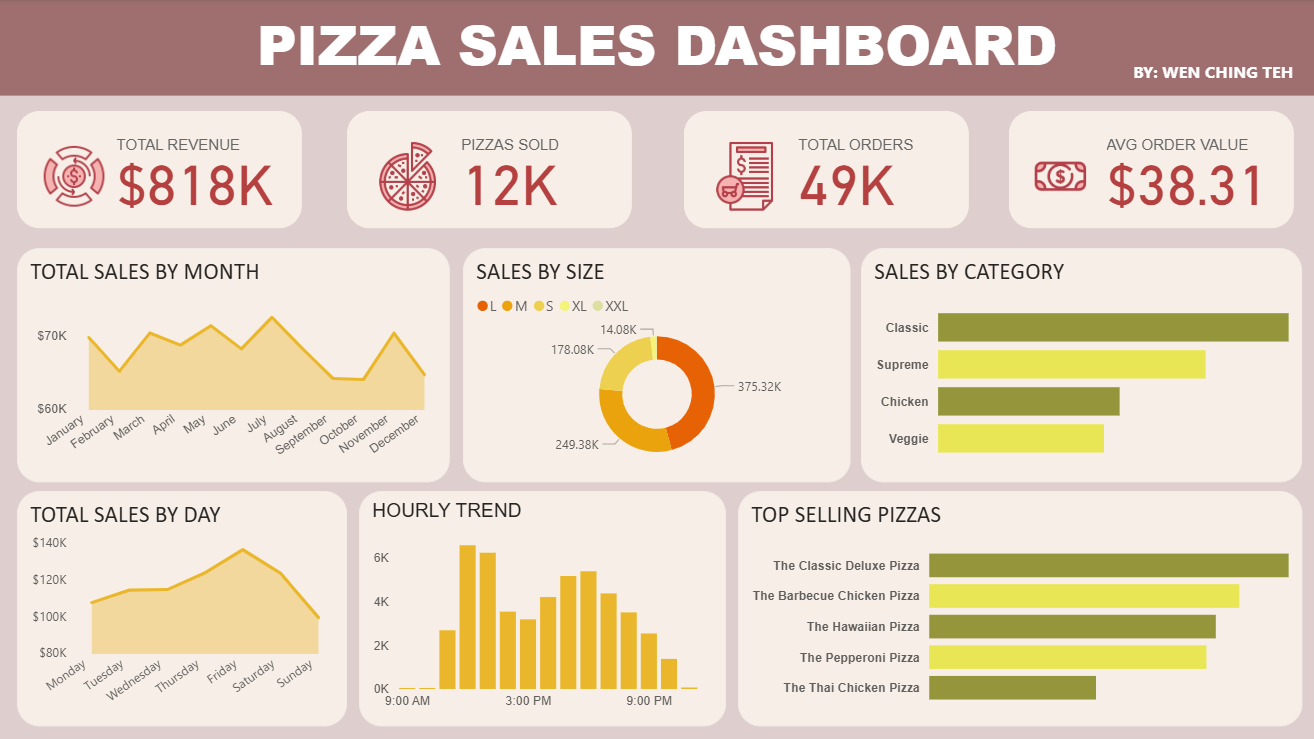

The page's visual inventory and layout, read from the dashboard file:
{"tool":"powerbi","page":{"name":"Page 1","canvas":[1280,720],"ordinal":0},"visuals":[{"type":"clusteredBarChart","title":"SALES BY CATEGORY","fields":{"Category":["Revenue_PizzaCategory.pizza_category"],"Y":["Sum(Revenue_PizzaCategory.total_revenue)"]},"box":[838.4,242.2,428.9,227.6],"z":0},{"type":"areaChart","title":"TOTAL SALES BY MONTH","fields":{"Category":["Month_TotalRevenue.month_name"],"Y":["Sum(Month_TotalRevenue.monthly_revenue)"]},"box":[17.5,242.2,421.2,227.6],"z":1000},{"type":"clusteredColumnChart","title":"HOURLY TREND","fields":{"Category":["Hour_TotalOrder.time_hour"],"Y":["Sum(Hour_TotalOrder.total_order)"]},"box":[350.2,478.5,357,228.6],"z":2000},{"type":"areaChart","title":"TOTAL SALES BY DAY","fields":{"Category":["Day_TotalRevenue.day_of_week"],"Y":["Sum(Day_TotalRevenue.total_revenue)"]},"box":[17.5,478.5,321,228.6],"z":4000},{"type":"donutChart","title":"SALES BY SIZE","fields":{"Category":["PizzaSize_TotalRevenue.pizza_size"],"Y":["Sum(PizzaSize_TotalRevenue.total_revenue)"]},"box":[451.3,242.2,377.4,227.6],"z":5000},{"type":"clusteredBarChart","title":"TOP SELLING PIZZAS","fields":{"Category":["PizzaName_TotalQuantity.pizza_name"],"Y":["Sum(PizzaName_TotalQuantity.total_quantity_sold)"]},"box":[718.8,478.5,548.6,228.6],"z":5001},{"type":"textbox","box":[0,0,1280,94.3],"z":5005},{"type":"cardVisual","title":"TOTAL REVENUE","fields":{"Data":["Sum(Month_TotalRevenue.monthly_revenue)"]},"box":[17.5,108.9,277.2,113.8],"z":5006},{"type":"cardVisual","title":"TOTAL REVENUE","fields":{"Data":["Sum(PizzaName_TotalQuantity.total_quantity_sold)"]},"box":[338.5,108.9,277.2,113.8],"z":5007},{"type":"cardVisual","title":"TOTAL REVENUE","fields":{"Data":["Sum(Hour_TotalOrder.total_order)"]},"box":[666.3,108.9,277.2,113.8],"z":5008},{"type":"cardVisual","title":"TOTAL REVENUE","fields":{"Data":["Sum(Average_order_value.average_order_value)"]},"box":[982.4,108.9,277.2,113.8],"z":5009},{"type":"textbox","box":[1098.1,54.5,169.2,32.1],"z":5010}]}

Visuals, with their boxes in screenshot pixels (x1, y1, x2, y2), scaled from the page's 1280x720 canvas onto the 1314x739 screenshot:
"SALES BY CATEGORY" clusteredBarChart: (x1=861, y1=249, x2=1301, y2=482)
"TOTAL SALES BY MONTH" areaChart: (x1=18, y1=249, x2=450, y2=482)
"HOURLY TREND" clusteredColumnChart: (x1=360, y1=491, x2=726, y2=726)
"TOTAL SALES BY DAY" areaChart: (x1=18, y1=491, x2=347, y2=726)
"SALES BY SIZE" donutChart: (x1=463, y1=249, x2=851, y2=482)
"TOP SELLING PIZZAS" clusteredBarChart: (x1=738, y1=491, x2=1301, y2=726)
textbox: (x1=0, y1=0, x2=1313, y2=97)
"TOTAL REVENUE" cardVisual: (x1=18, y1=112, x2=303, y2=229)
"TOTAL REVENUE" cardVisual: (x1=347, y1=112, x2=632, y2=229)
"TOTAL REVENUE" cardVisual: (x1=684, y1=112, x2=969, y2=229)
"TOTAL REVENUE" cardVisual: (x1=1008, y1=112, x2=1293, y2=229)
textbox: (x1=1127, y1=56, x2=1301, y2=89)
